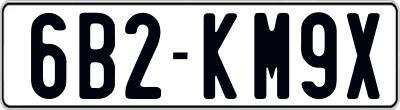2: (123, 13, 162, 100)
6: (30, 12, 67, 98)
9: (298, 9, 340, 101)
B: (76, 11, 113, 102)
K: (204, 13, 243, 102)
M: (251, 10, 287, 100)
X: (347, 10, 383, 96)
